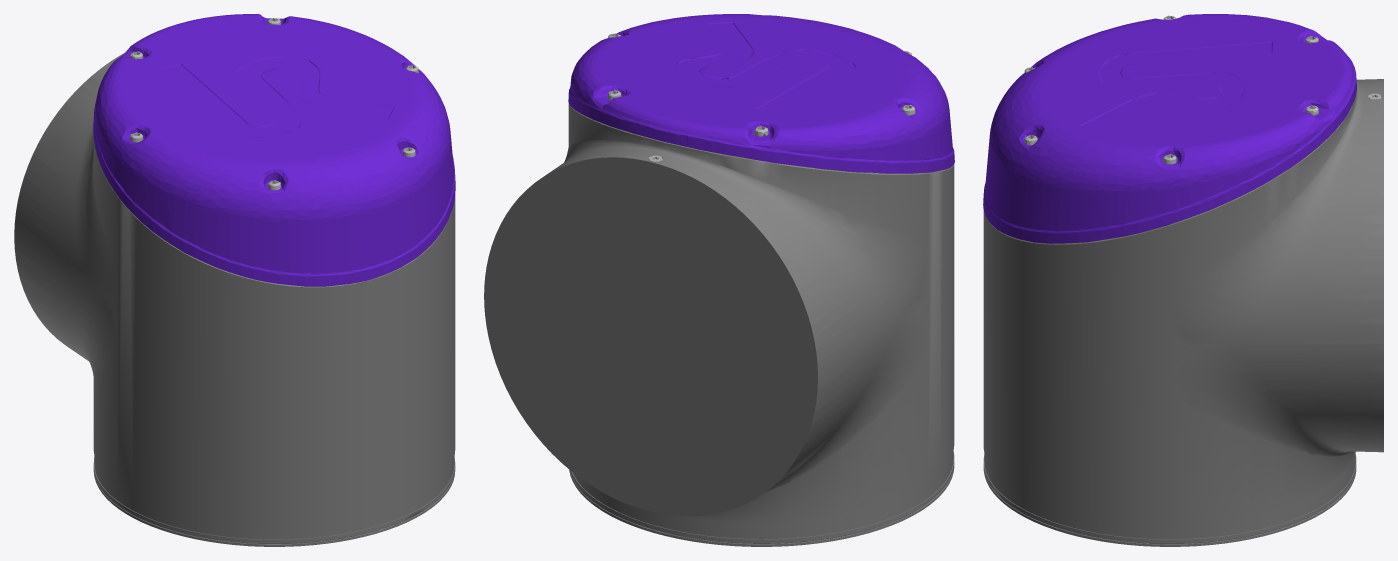
File: shoulder.dae
The picture shows the model from 3 angles, left to right: view 1: azimuth 30°, elevation 25°; view 2: azimuth 150°, elevation 25°; view 3: azimuth 270°, elevation 25°; orthographic projection. The views are drawn at different scales.
Parts seen in each view (by area): view 1: node-shape0-name, node-shape1-name, node-shape2-name; view 2: node-shape0-name, node-shape1-name; view 3: node-shape0-name, node-shape1-name, node-shape2-name.
Part boxes in pixels (box(x1,y1,x2,y2)): node-shape0-name: box(14, 53, 455, 546); node-shape1-name: box(93, 14, 455, 286); node-shape2-name: box(130, 18, 418, 190); node-shape0-name: box(484, 103, 954, 546); node-shape1-name: box(568, 14, 954, 173); node-shape0-name: box(983, 79, 1383, 546); node-shape1-name: box(983, 14, 1356, 243); node-shape2-name: box(1024, 15, 1381, 164).
Size of the model in its own units: 0.1503 by 0.1612 by 0.1772.
